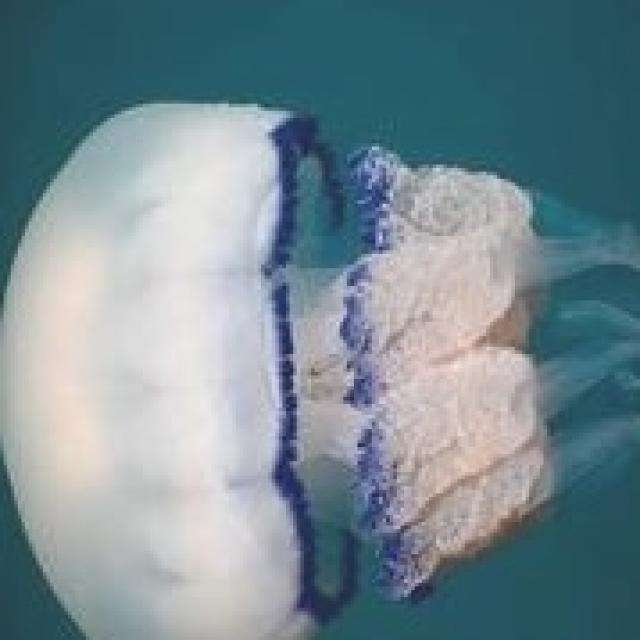Jellyfish: (0, 93, 636, 640)
